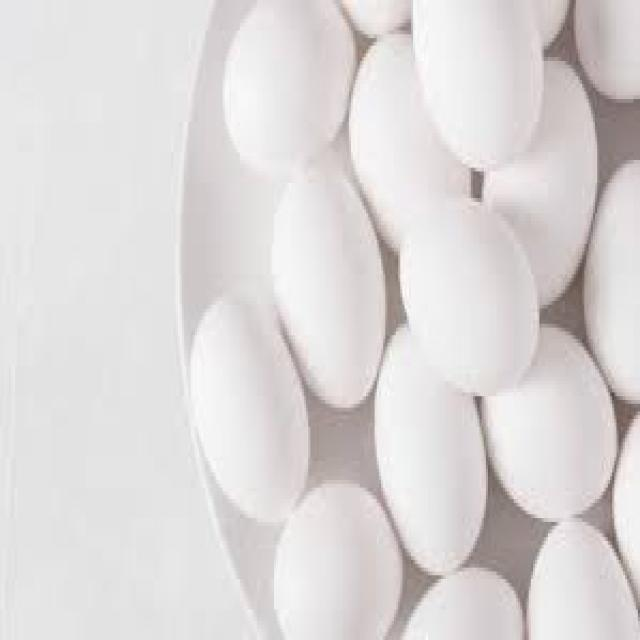White Egg: (473, 289, 622, 497), (350, 32, 485, 245), (190, 286, 314, 503), (270, 162, 383, 399), (389, 224, 543, 396), (375, 327, 487, 563), (409, 0, 554, 180), (272, 467, 393, 640), (510, 516, 640, 640)
